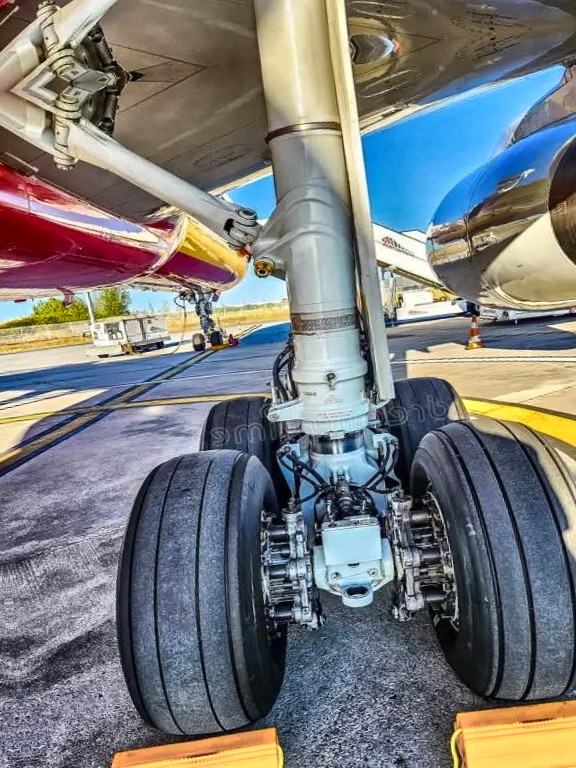chock: (445, 685, 576, 761), (97, 723, 285, 768), (211, 343, 226, 353)
wheel: (98, 444, 304, 741), (402, 406, 576, 710), (192, 391, 292, 513), (381, 371, 473, 482), (192, 332, 207, 351), (210, 330, 224, 346)
